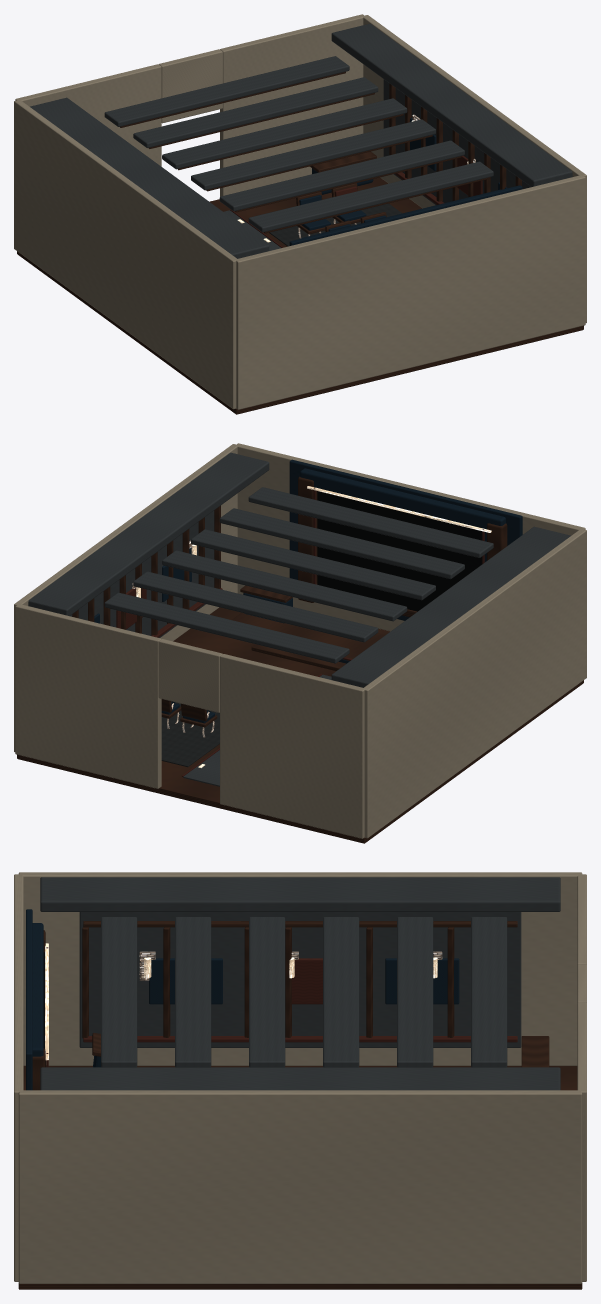
The picture shows the model from 3 angles, top to bottom: view 1: azimuth 30°, elevation 25°; view 2: azimuth 150°, elevation 25°; view 3: azimuth 270°, elevation 25°; orthographic projection. The views are drawn at different scales.
Parts seen in each view (by area): view 1: architecture.wall.focal, architecture.wall.left, ceiling.perimeter.right, architecture.wall.rear-right, ceiling.perimeter.left, architecture.wall.rear-left, ceiling.raft.01, ceiling.raft.02, ceiling.raft.05, ceiling.raft.04, ceiling.raft.06, ceiling.raft.03 (+7 smaller); view 2: architecture.wall.left, architecture.wall.rear-right, architecture.wall.rear-left, ceiling.perimeter.right, ceiling.perimeter.left, architecture.floor, media.debug-main, architecture.wall.focal, ceiling.raft.05, ceiling.raft.06, ceiling.raft.01, ceiling.raft.02 (+14 smaller); view 3: architecture.wall.right, architecture.wall.left, acoustic.backing.left, ceiling.perimeter.left, ceiling.perimeter.right, ceiling.raft.05, ceiling.raft.06, ceiling.raft.01, ceiling.raft.02, ceiling.raft.03, ceiling.raft.04, architecture.floor (+17 smaller).
Boxes of the visible parts, x1,y1,x2,y2 form: architecture.wall.focal: (236,175,585,409); architecture.wall.left: (14,100,237,409); ceiling.perimeter.right: (331,23,572,186); architecture.wall.rear-right: (220,14,364,196); ceiling.perimeter.left: (30,97,269,258); architecture.wall.rear-left: (15,64,161,166); ceiling.raft.01: (248,161,493,232); ceiling.raft.02: (219,140,464,211); ceiling.raft.05: (133,77,378,147); ceiling.raft.04: (162,98,407,169); ceiling.raft.06: (104,56,349,126); ceiling.raft.03: (191,119,435,190); architecture.wall.left: (363,529,586,838); architecture.wall.rear-right: (15,604,161,788); architecture.wall.rear-left: (220,654,364,838); ceiling.perimeter.right: (28,452,269,615); ceiling.perimeter.left: (331,526,570,687); architecture.floor: (17,607,583,843); media.debug-main: (317,491,482,611); architecture.wall.focal: (236,443,585,631); ceiling.raft.05: (133,571,378,642); ceiling.raft.06: (104,592,349,663); ceiling.raft.01: (248,487,493,557); ceiling.raft.02: (219,508,464,579); architecture.wall.right: (18,1090,582,1283); architecture.wall.left: (18,872,582,1065); acoustic.backing.left: (79,912,521,1047); ceiling.perimeter.left: (40,877,560,911); ceiling.perimeter.right: (40,1067,560,1090); ceiling.raft.05: (397,917,433,1067); ceiling.raft.06: (471,917,507,1067); ceiling.raft.01: (101,917,137,1067); ceiling.raft.02: (175,917,211,1067); ceiling.raft.03: (249,917,285,1067); ceiling.raft.04: (323,917,359,1067); architecture.floor: (18,1066,582,1289).
Size of the model in its own units: 11 by 4.62 by 12.
10 materials, 8 textured.
